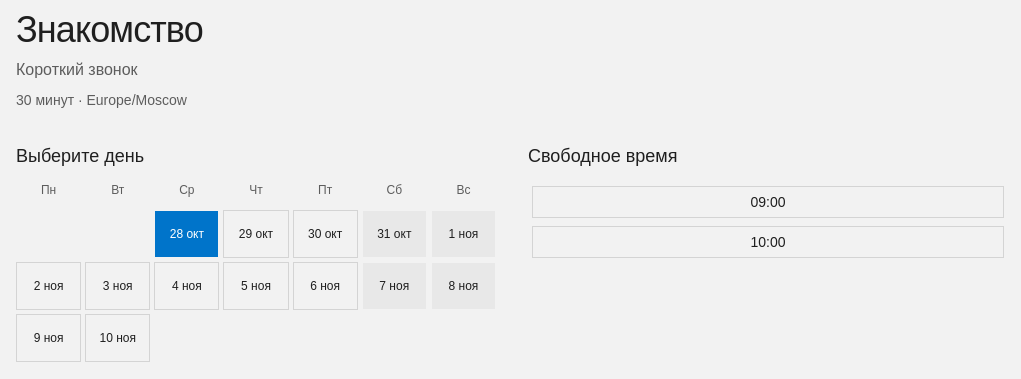
Test: EventTypePage › selects the first day with slots and switches days
Expected: the button "09:00" is shown, [532,186,1004,218]
Click the button "29 окт" at (256, 234), box [223,210,288,258]
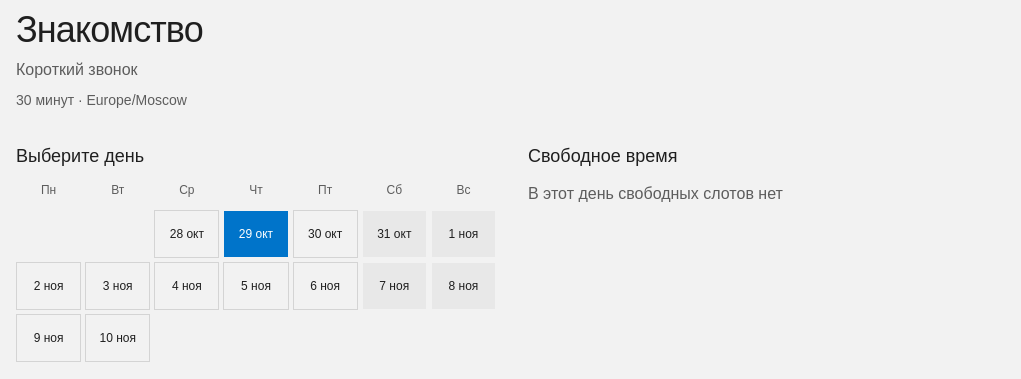
Now the text "В этот день свободных слотов нет" is shown, box [528,185,783,202]
Click the button "30 окт" at (325, 234), box [293,210,358,258]
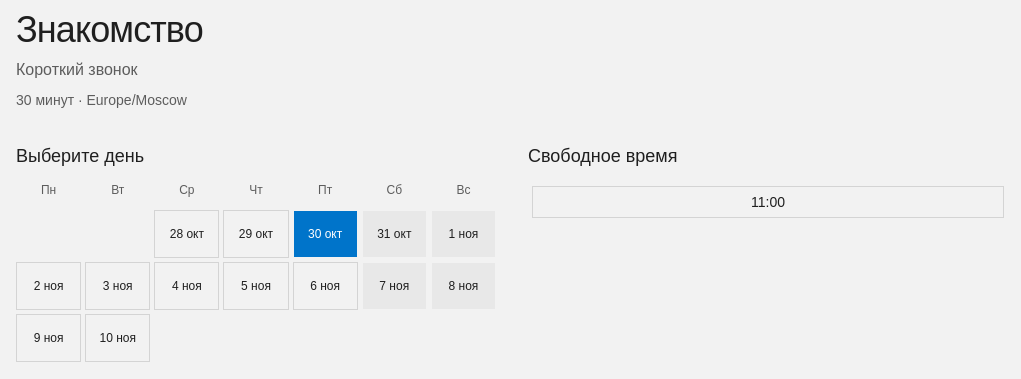
Now the button "11:00" is shown, box [532,186,1004,218]
